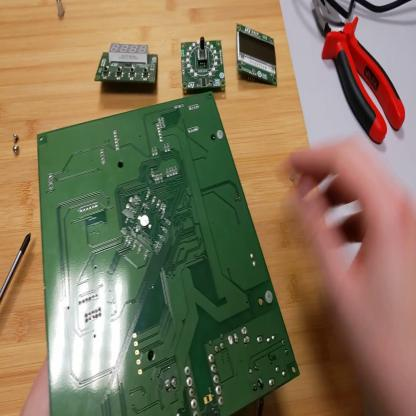hand: (288, 134, 415, 398), (19, 357, 49, 416)
low voltage board: (36, 92, 299, 416)
pliers: (313, 3, 407, 145)
screwdriver-: (2, 234, 30, 303)
working area: (2, 4, 362, 415)
